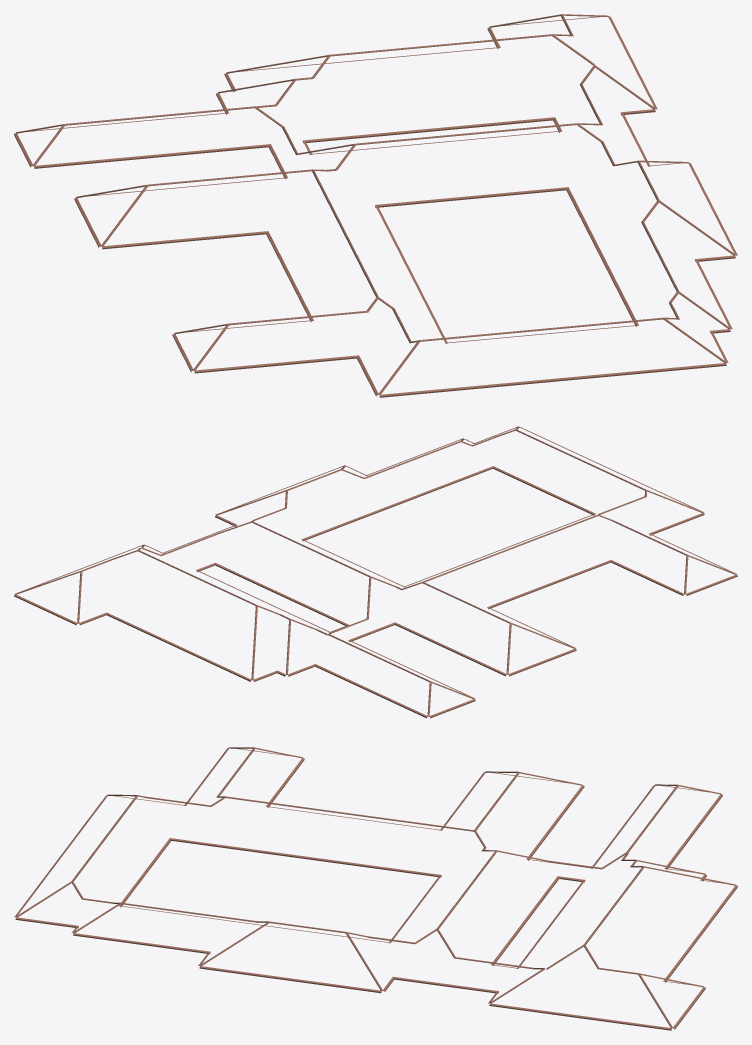
The picture shows the model from 3 angles, top to bottom: view 1: azimuth 30°, elevation 25°; view 2: azimuth 150°, elevation 25°; view 3: azimuth 270°, elevation 25°; orthographic projection. The views are drawn at different scales.
Parts seen in each view (by area): view 1: detail; view 2: detail; view 3: detail.
Boxes of the visible parts, left/top/right/bottom form: detail: left=14, top=14, right=737, bottom=397; detail: left=14, top=426, right=737, bottom=718; detail: left=14, top=747, right=737, bottom=1030.
Size of the model in its own units: 86.55 by 5.95 by 93.82.
